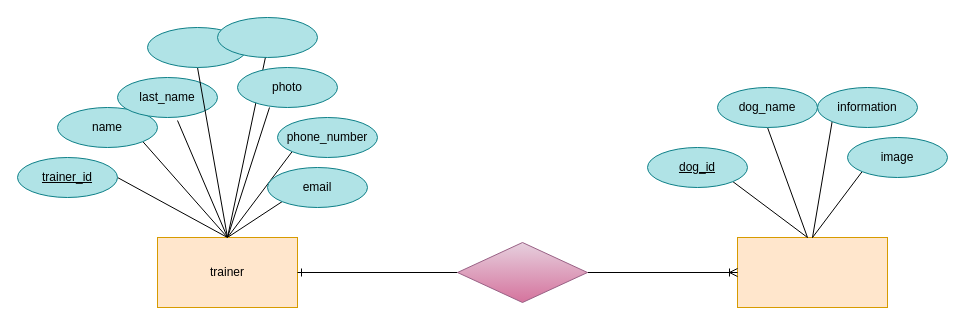
Image size: 965x325. Some labels were removed from this diagram. Each missing label, with the centre of its shape:
description: point 267,37
dog: point 812,272
password: point 197,47
train: point 522,272
